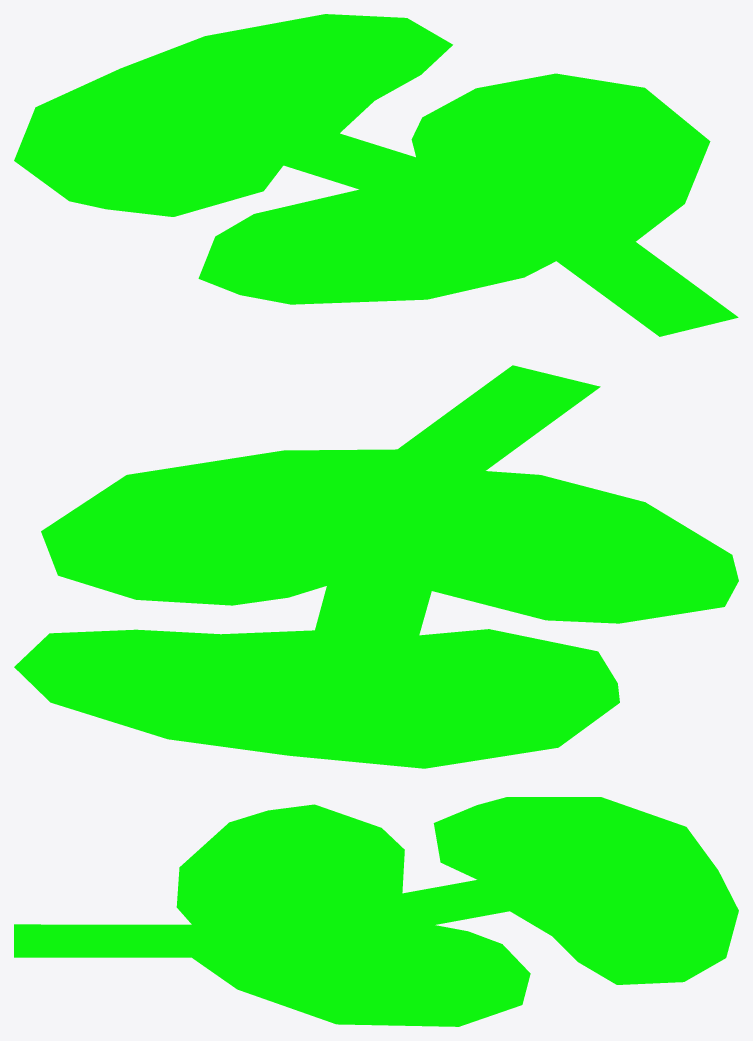
File: s02a_nb2-floor.glb
3 views of the same model, one above another, from view 1: azimuth 30°, elevation 25°; view 2: azimuth 150°, elevation 25°; view 3: azimuth 270°, elevation 25° (orthographic). The views are drawn at different scales.
Visible parts, largest first — view 1: collision_floor-colonly; view 2: collision_floor-colonly; view 3: collision_floor-colonly.
Boxes of the visible parts, x1=… form: collision_floor-colonly: x1=14, y1=14, x2=738, y2=336; collision_floor-colonly: x1=14, y1=365, x2=738, y2=768; collision_floor-colonly: x1=14, y1=797, x2=738, y2=1026.
Size of the model in its own units: 41.47 by 0 by 55.29.
